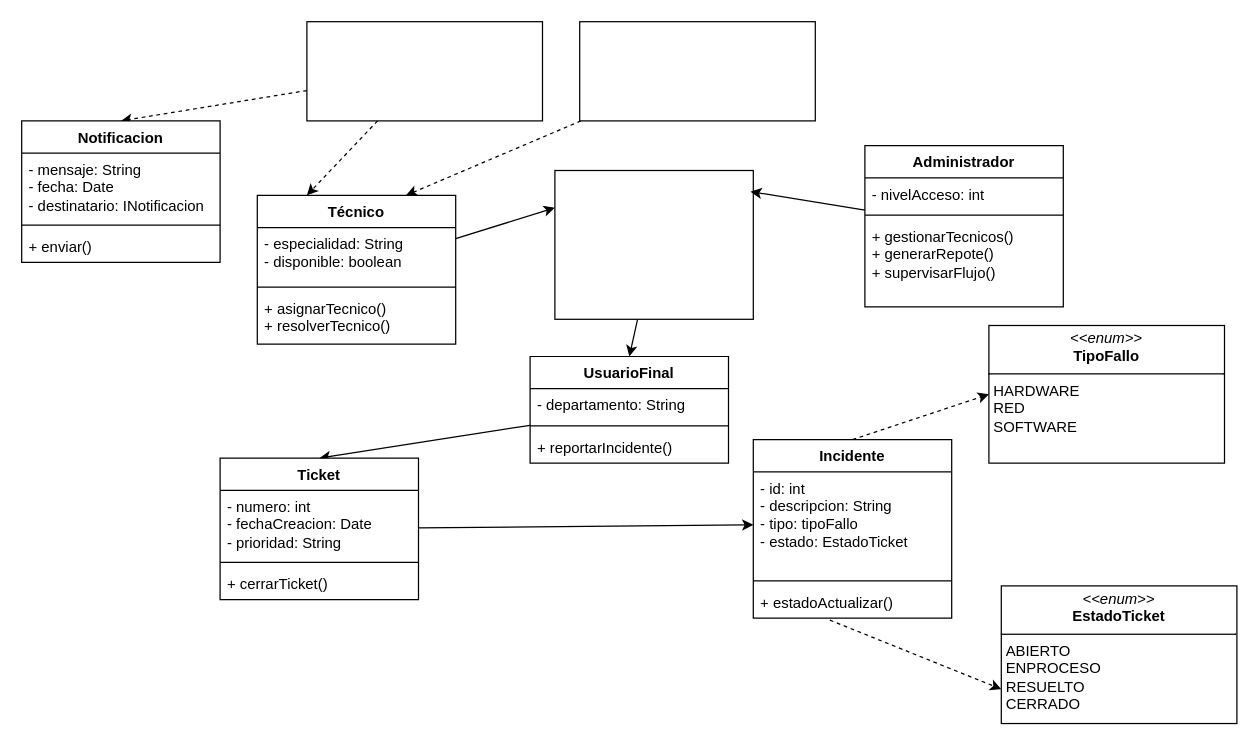
The diagram is 1259 pixels wide and 745 high, and some of its shapes have lost their labels. The centre of each missing label's shape, as x and y in pixels:
"<<Interface>> Interface Asignacion + asignarTecnico()" goes at pixel 696 70.
"<<Interface>> Interface Notificacion + enviarNotificacion()" goes at pixel 424 70.
"Usuario - id: int - nombre: String - email: String + login()" goes at pixel 653 244.
